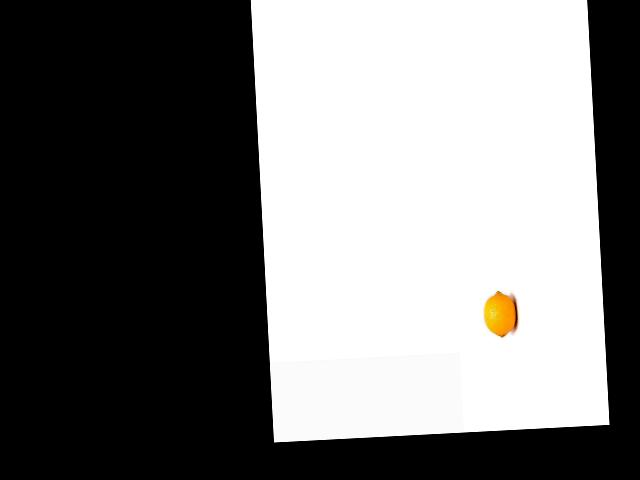lemon: (481, 286, 522, 338)
